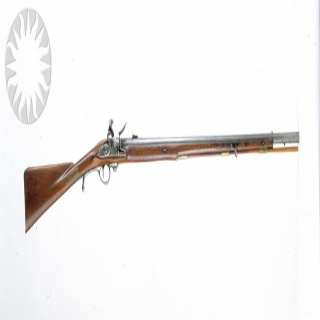shotgun: (23, 119, 301, 240)
